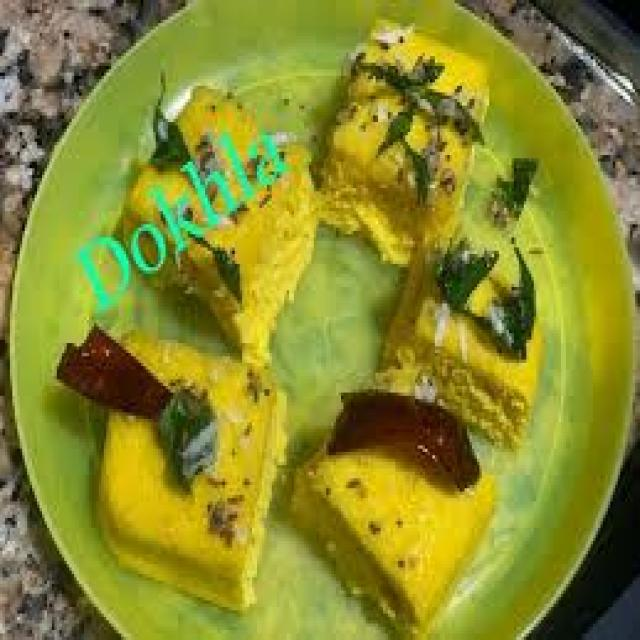DHOKLA: (52, 323, 287, 615), (287, 349, 501, 637), (127, 78, 318, 344), (325, 18, 496, 263), (383, 238, 548, 444)
